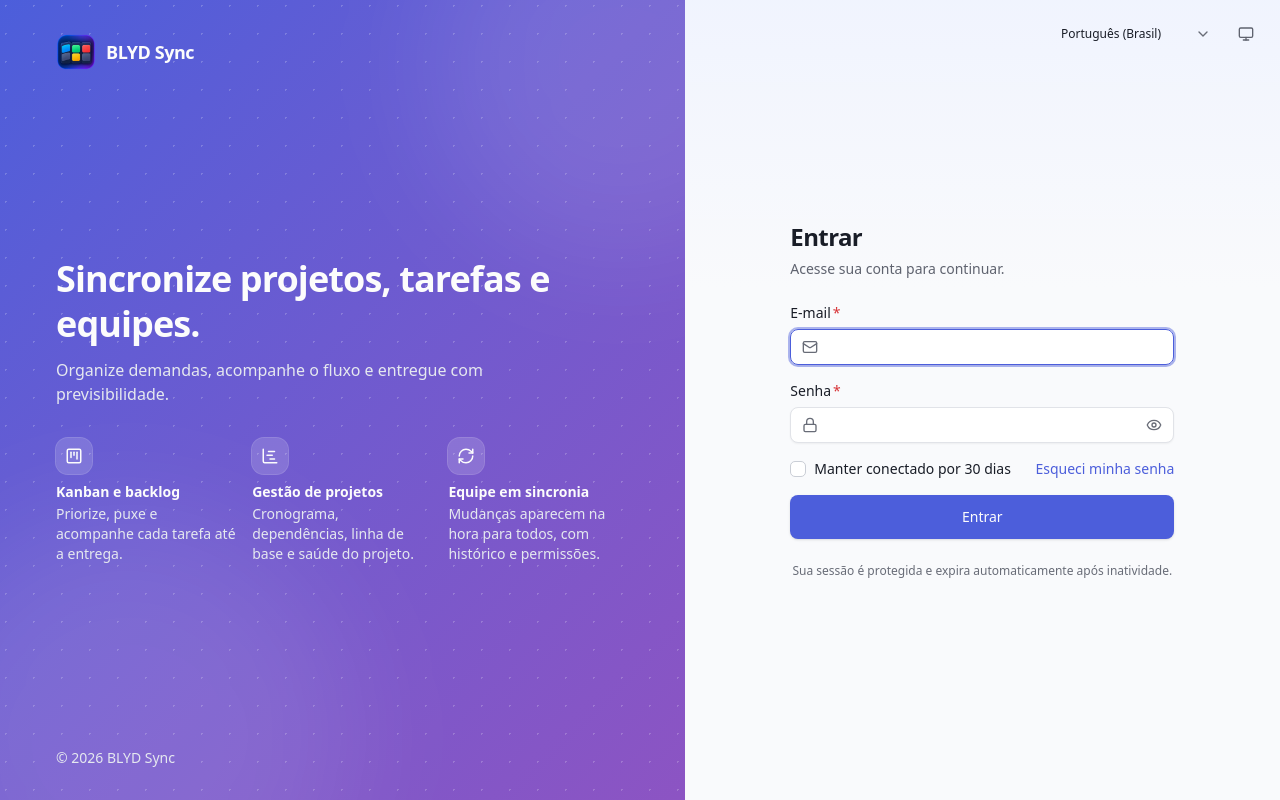
Esqueci minha senha e nova senha › login sem envio de e-mail: "Esqueci minha senha" pede para contatar o administrador
This screenshot has width=1280, height=800.
Expected: the button "Entrar" is shown, [790,495,1174,539]
Expected: the text "Contate o administrador para trocar a senha" is not shown
Click the button "Esqueci minha senha": click(1105, 469) [1035,459,1174,479]
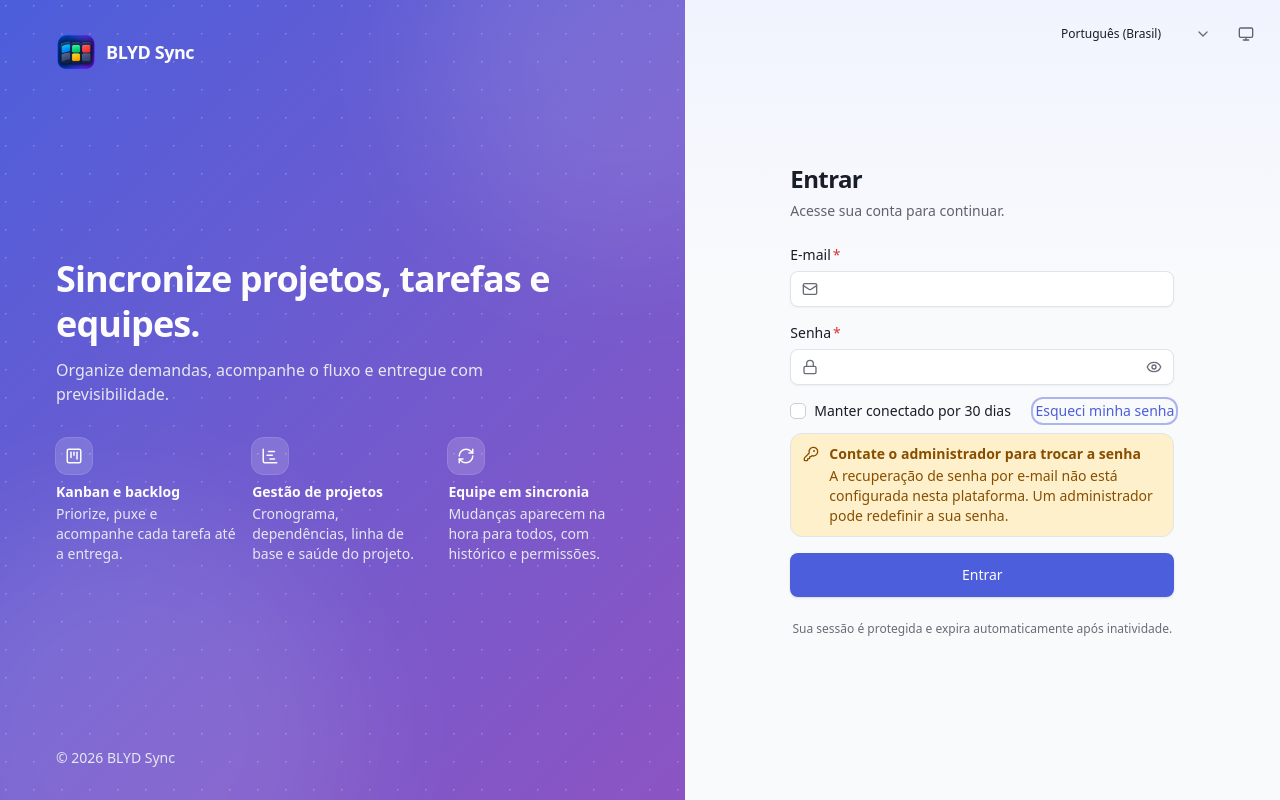
Result: the text "Contate o administrador para trocar a senha" is shown at [829,444,1161,464]
Result: the button "Esqueci minha senha" is expanded at [1035,401,1174,421]
